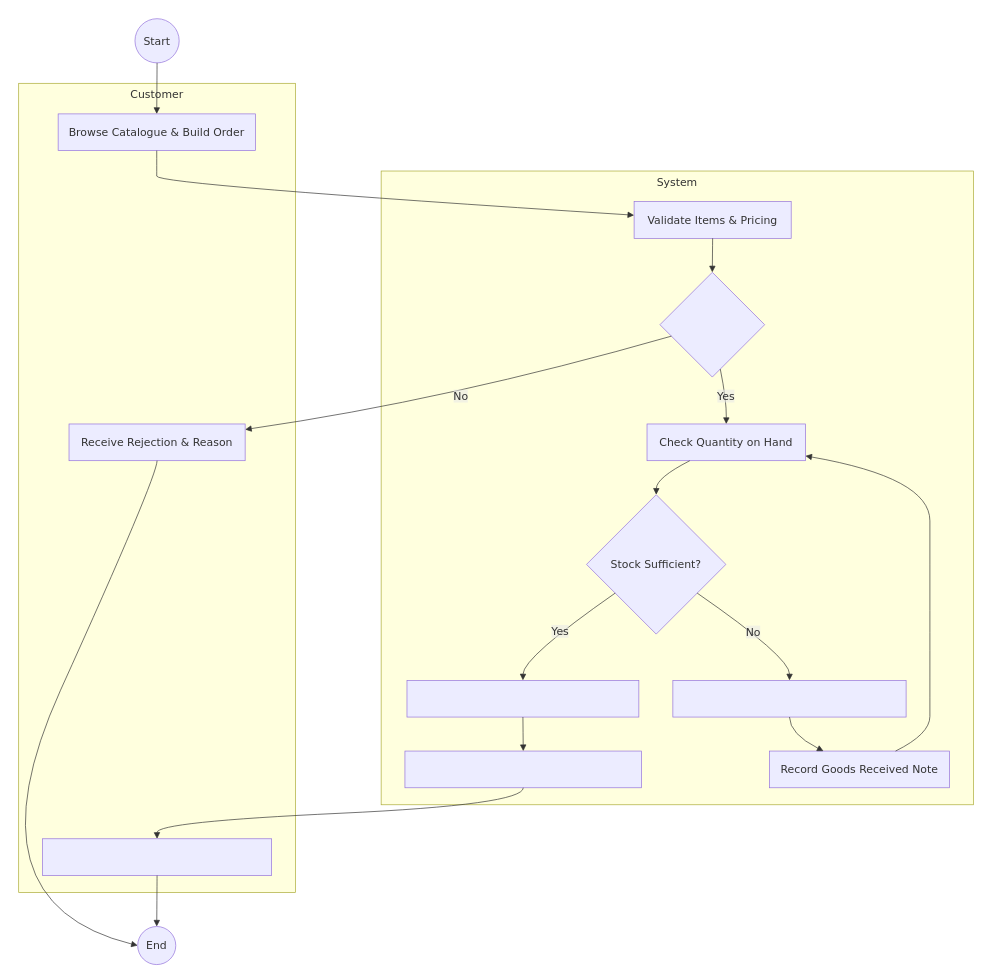
This 985x976 diagram has some shape labels left out. The shapes that lost their labels are listed below. From the top down, each one's box as (x1, y1, x2, y2) in pixels, then its label:
(659, 272, 765, 377): Order Valid?
(406, 680, 639, 717): Calculate Extended Price & Order Total
(672, 680, 906, 717): Raise Purchase Requisition by Publisher
(404, 750, 642, 788): Generate Sales Order Acknowledgement
(42, 838, 272, 876): Receive Sales Order Acknowledgement
